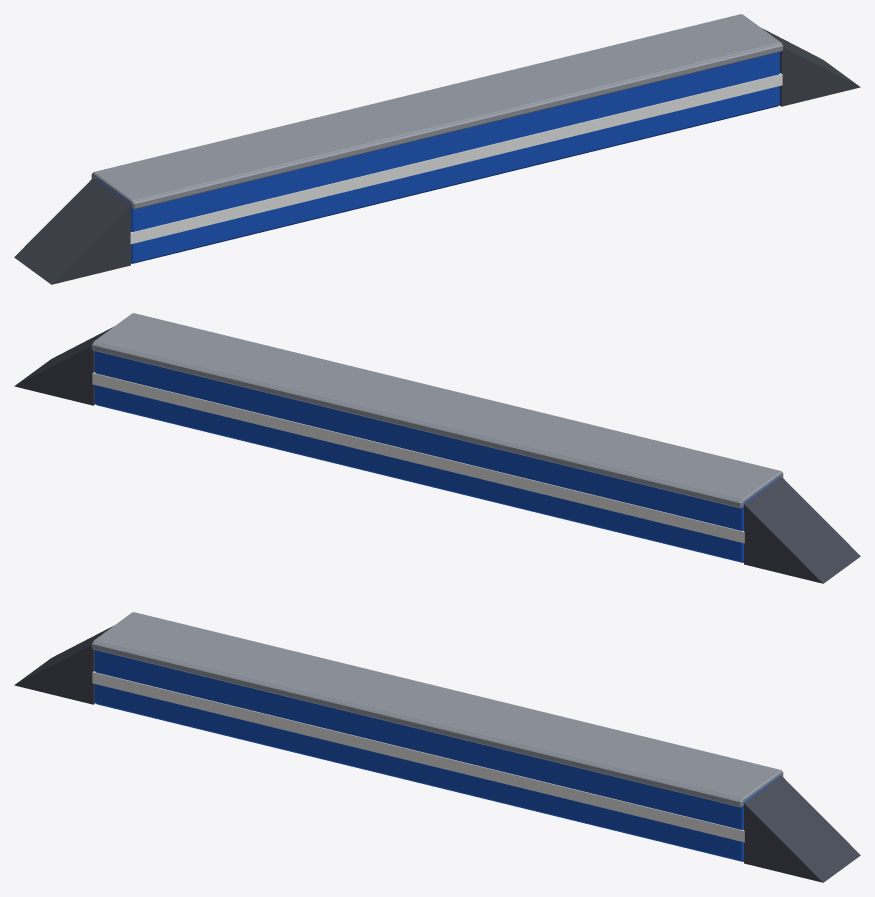
File: grind_box.glb
The picture shows the model from 3 angles, top to bottom: view 1: azimuth 30°, elevation 25°; view 2: azimuth 150°, elevation 25°; view 3: azimuth 330°, elevation 25°; orthographic projection.
Parts seen in each view (by area): view 1: grind_box; view 2: grind_box; view 3: grind_box.
Boxes of the visible parts, x1,y1,x2,y2 form: grind_box: [14, 14, 860, 284]; grind_box: [14, 313, 860, 583]; grind_box: [14, 612, 860, 882].
Size of the model in its own units: 22.4 by 1.72 by 2.04.
Materials: 1 (1 with a texture image).
